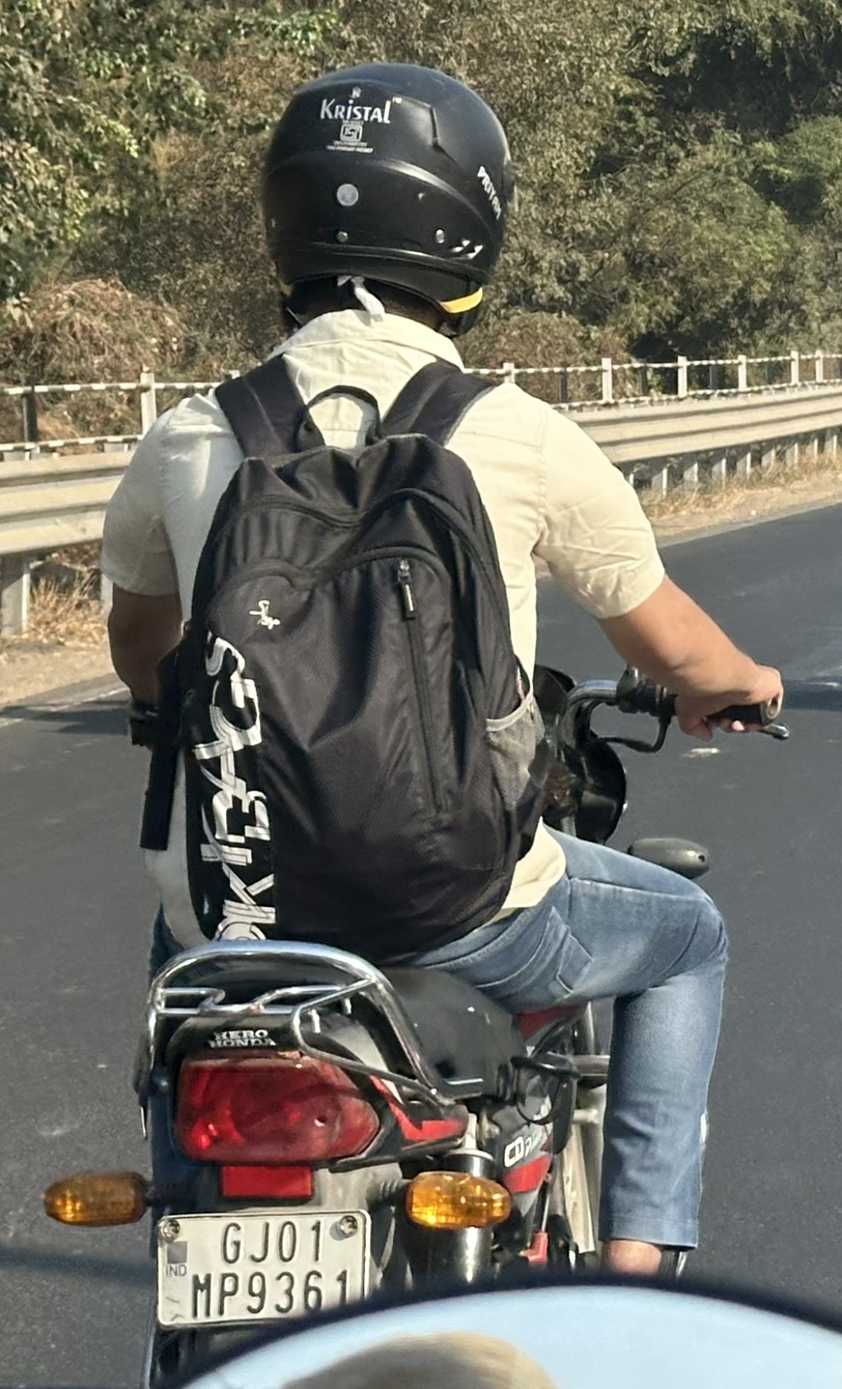BikeWithRider: (30, 48, 806, 1389)
Helmet: (231, 49, 534, 361)
